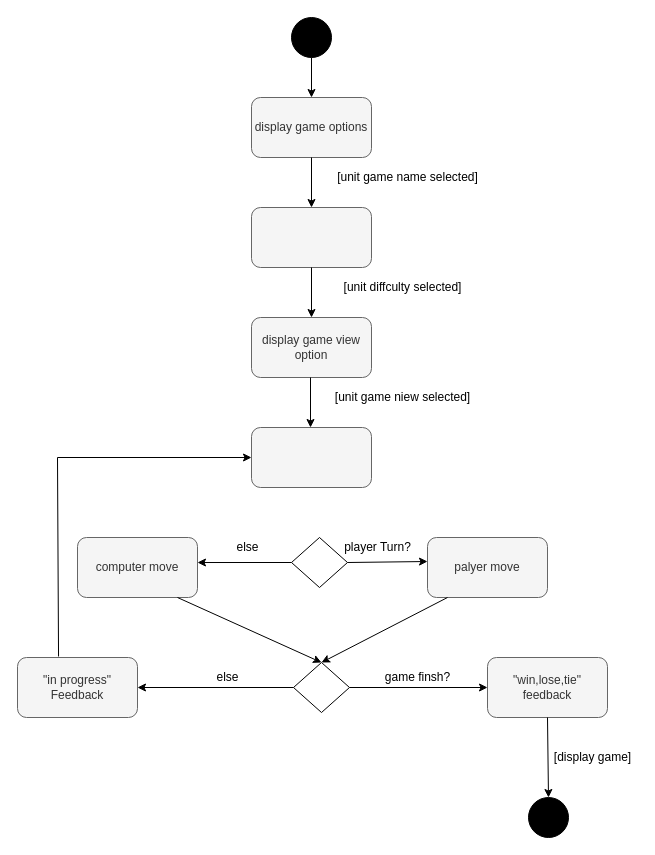
Some shapes in this 655 by 855 pixel diagram are drawn without their labels. The box of each missing label's shape, as (x1, y1, x2, y2) in pixels:
display game: (250, 426, 372, 488)
display game difficulty: (250, 206, 372, 268)
